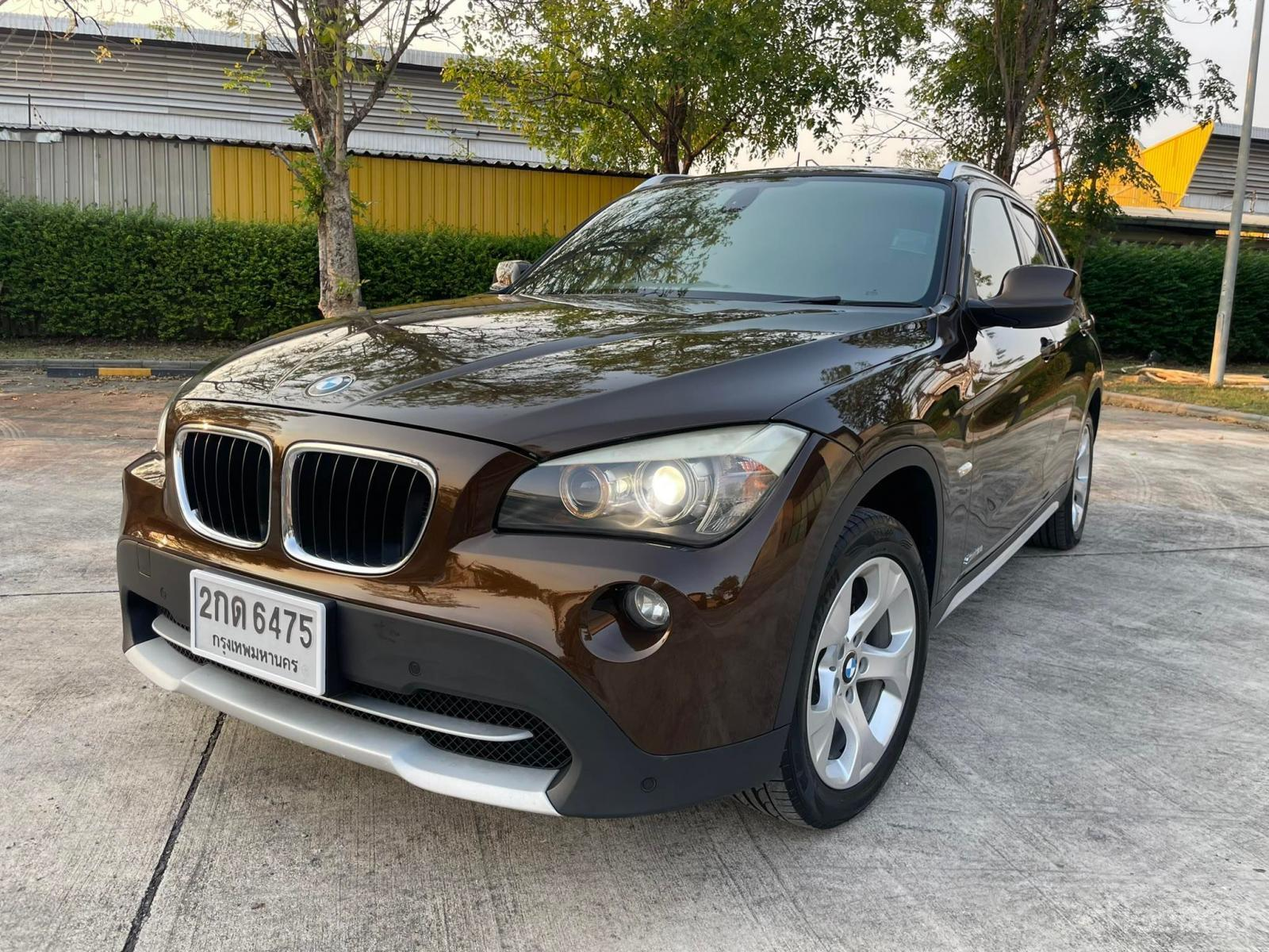license-plate: (184, 562, 332, 701)
